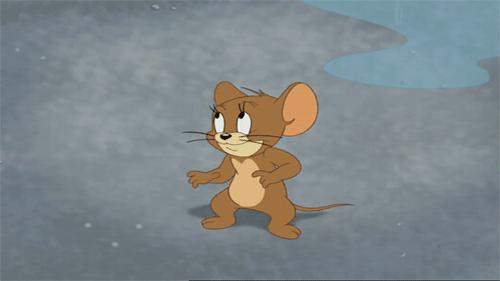jerry: (187, 80, 354, 240)
